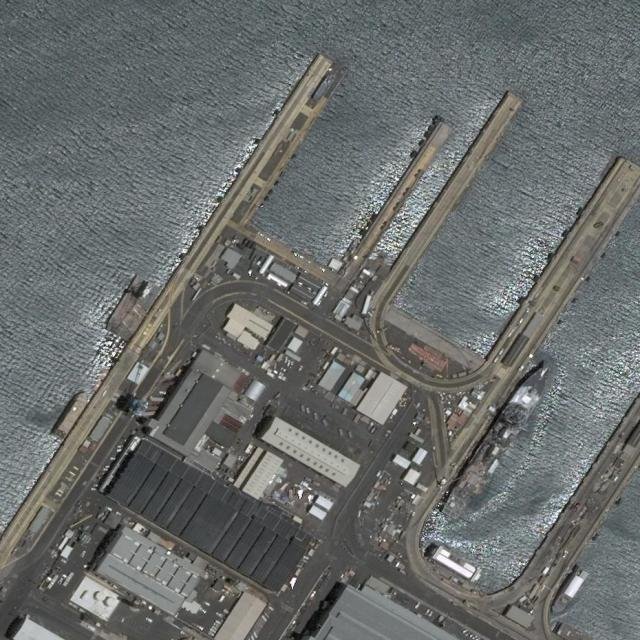Destroyer: (441, 358, 554, 522)
Dock: (378, 85, 526, 302), (218, 52, 346, 224), (339, 118, 456, 273)
